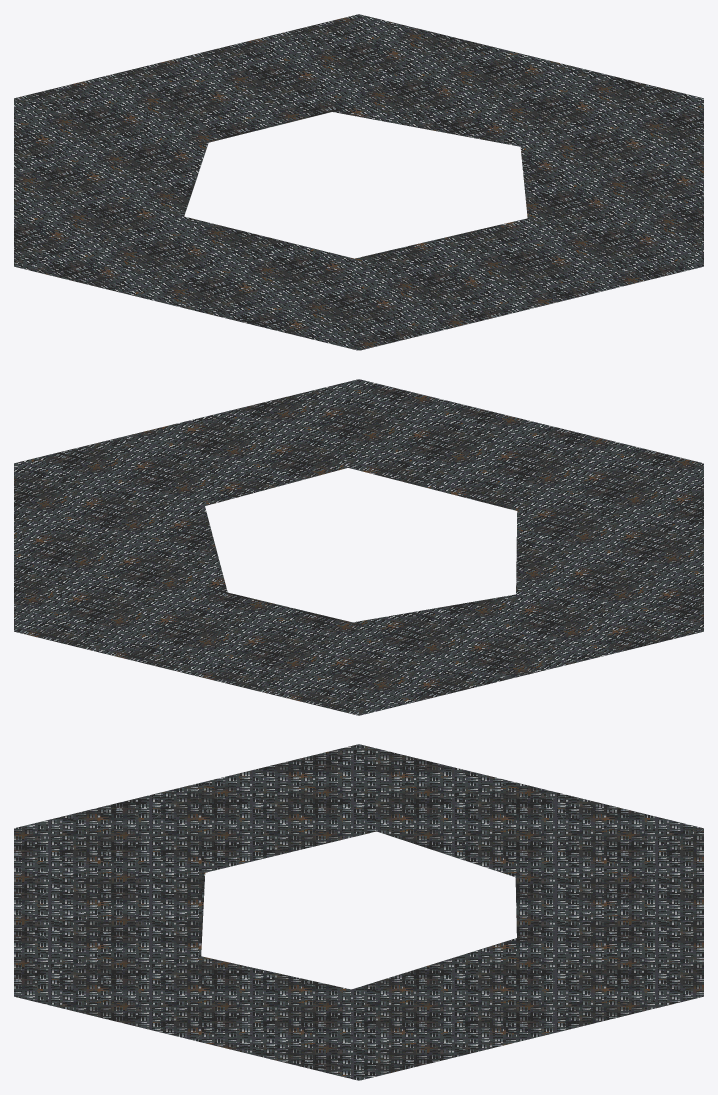
File: Polizei_BodenKerker_2558.glb
3 views of the same model, one above another, from view 1: azimuth 30°, elevation 25°; view 2: azimuth 150°, elevation 25°; view 3: azimuth 270°, elevation 25° (orthographic).
Parts seen in each view (by area): view 1: polySurfaceShape1065; view 2: polySurfaceShape1065; view 3: polySurfaceShape1065.
Boxes of the visible parts, <box> form: polySurfaceShape1065: <box>14,14,703,350</box>; polySurfaceShape1065: <box>14,379,703,715</box>; polySurfaceShape1065: <box>14,744,703,1080</box>.
Bounding box in the file's own units: 1.66 × 6.27e-08 × 1.44.
Materials: 1 (1 with a texture image).
